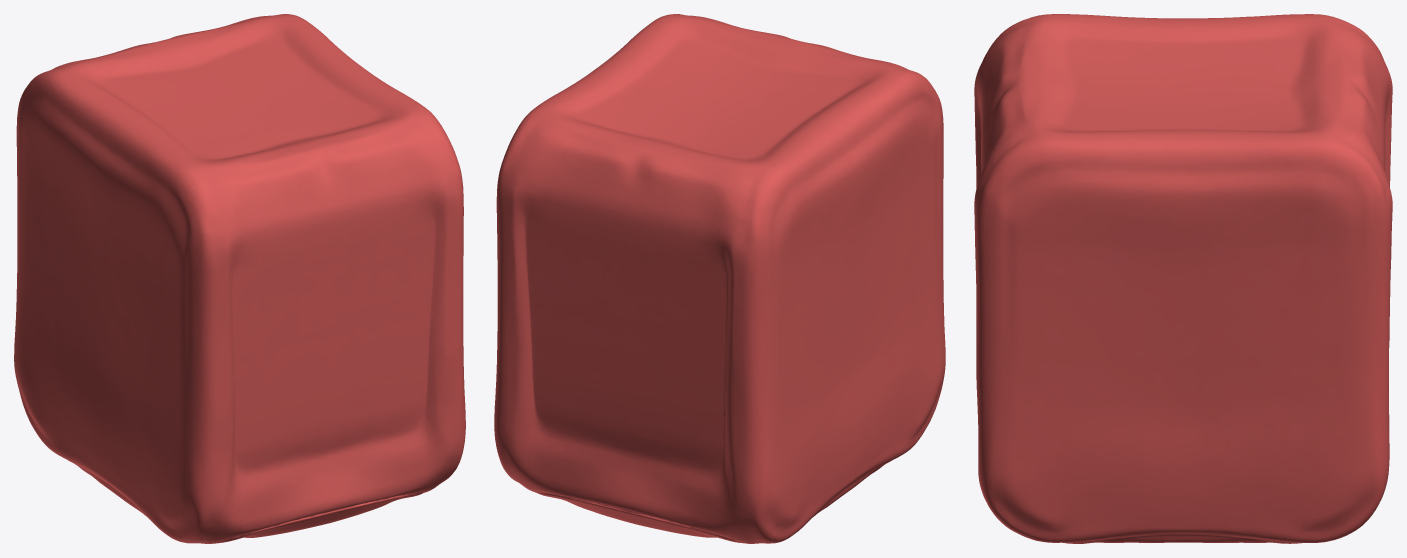
Rendered from cube_red.glb.
3 views of the same model, side by side, from view 1: azimuth 30°, elevation 25°; view 2: azimuth 150°, elevation 25°; view 3: azimuth 270°, elevation 25° (orthographic). The views are drawn at different scales.
Parts seen in each view (by area): view 1: tripo_node_144fc6f2-0c99-4f59-afeb-338fc7b1aea9; view 2: tripo_node_144fc6f2-0c99-4f59-afeb-338fc7b1aea9; view 3: tripo_node_144fc6f2-0c99-4f59-afeb-338fc7b1aea9.
Part boxes in pixels (x1,y1,x2,y2): tripo_node_144fc6f2-0c99-4f59-afeb-338fc7b1aea9: (14, 14, 465, 543); tripo_node_144fc6f2-0c99-4f59-afeb-338fc7b1aea9: (494, 14, 945, 543); tripo_node_144fc6f2-0c99-4f59-afeb-338fc7b1aea9: (974, 14, 1392, 543).
Size of the model in its own units: 0.7714 by 1 by 0.932.
1 material, 1 textured.
